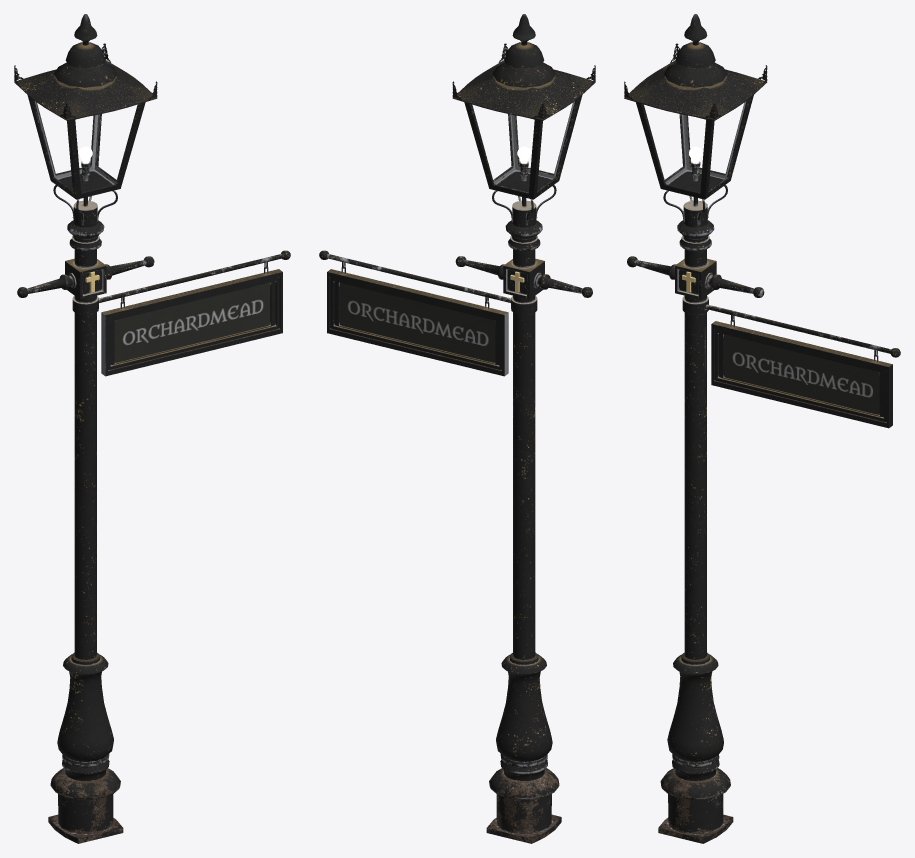
The picture shows the model from 3 angles, left to right: view 1: azimuth 30°, elevation 25°; view 2: azimuth 150°, elevation 25°; view 3: azimuth 330°, elevation 25°; orthographic projection.
Parts seen in each view (by area): view 1: Lamppost, Sign; view 2: Lamppost, Sign; view 3: Lamppost, Sign.
Boxes of the visible parts, x1,y1,x2,y2 form: Lamppost: [14, 14, 290, 843]; Sign: [101, 266, 282, 376]; Lamppost: [319, 14, 595, 843]; Sign: [327, 266, 508, 376]; Lamppost: [624, 14, 900, 843]; Sign: [711, 319, 892, 428].
Size of the model in its own units: 99.34 by 284 by 35.77.
6 materials, 5 textured.
